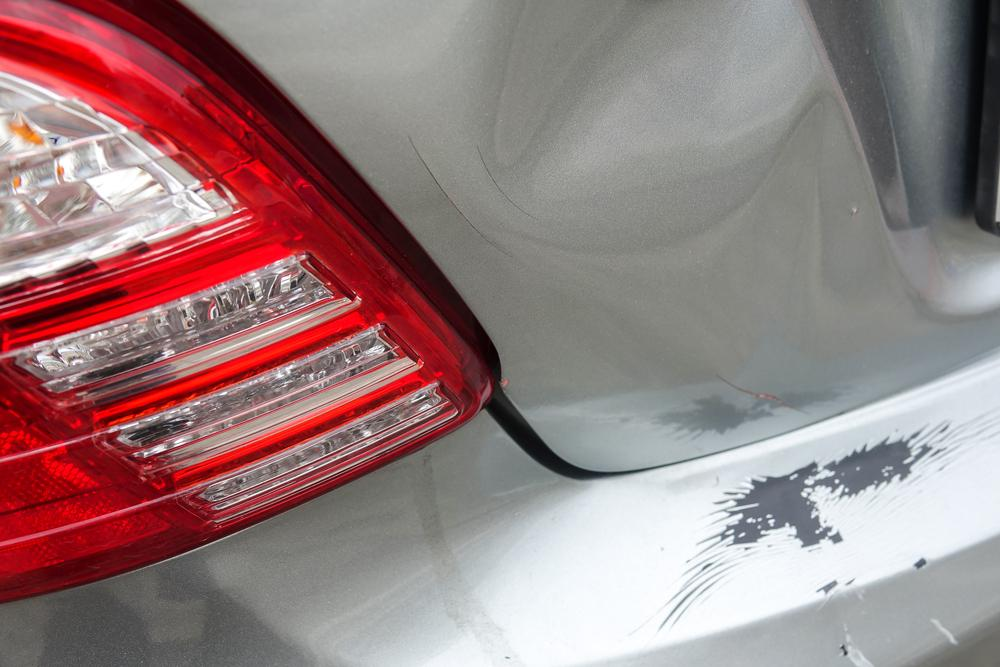dent: (648, 95, 905, 371), (484, 0, 819, 204)
scratch: (660, 407, 1000, 667)
